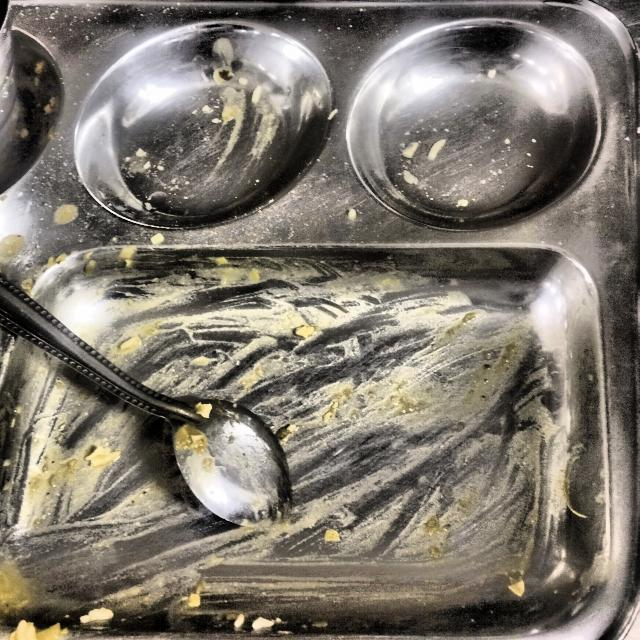Gulab-jamun: (0, 3, 638, 640)
